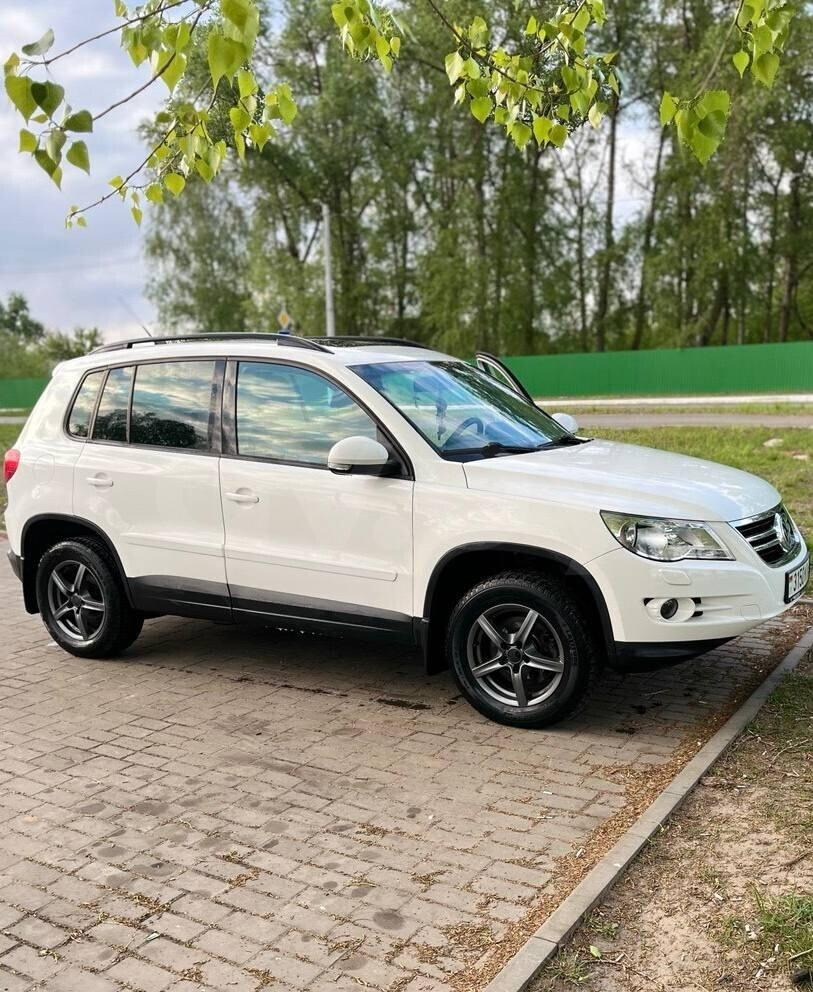Tiguan_2007-2011: (0, 334, 811, 718)
